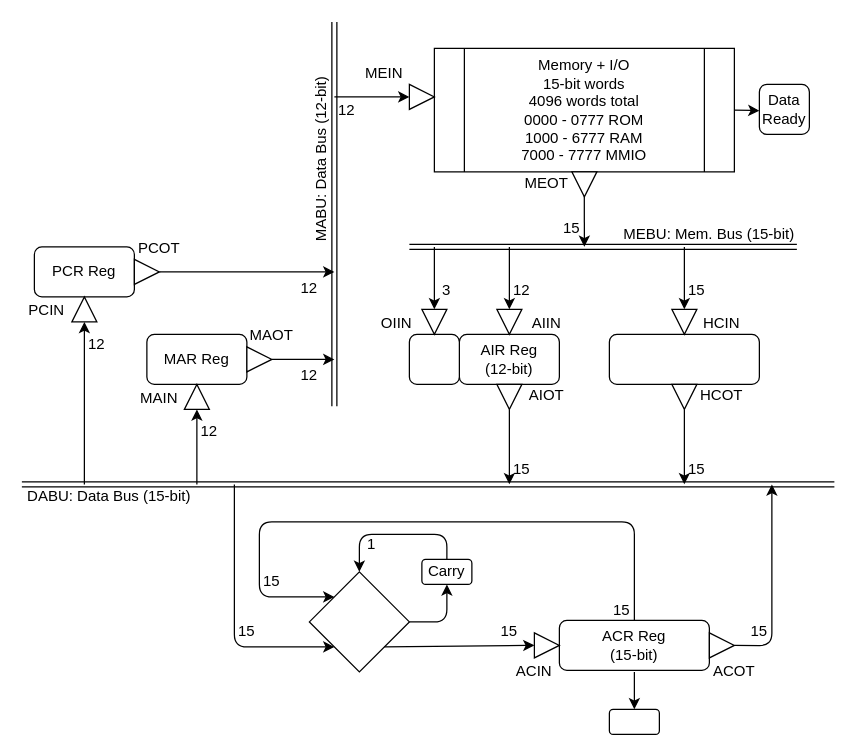
Some shapes in this 856 by 756 pixel diagram are drawn without their labels. The shapes that lost their labels are listed below. From the top down, each one's centre as x and y in pixels, then its label:
At point (433, 358): "OIR (3-bit)".
At point (683, 358): "HCR Reg (15-bit)".
At point (358, 621): "ALU (15-bit)".
At point (633, 721): "Zero".
